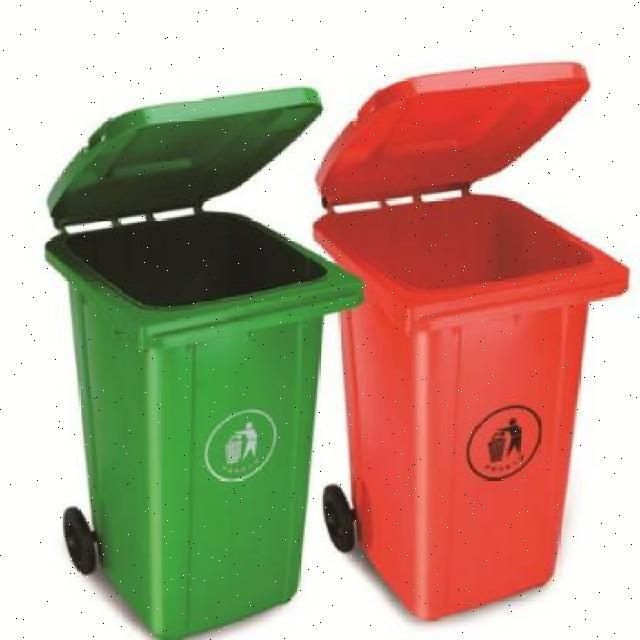garbage container: (37, 78, 373, 640), (310, 56, 635, 636)
